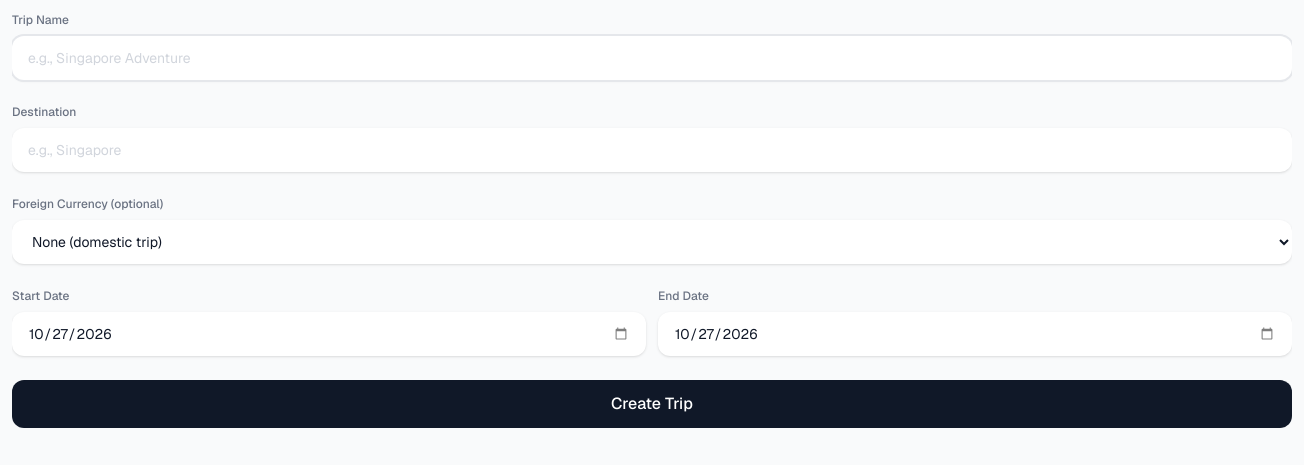
Scenario: TripForm › shows validation error for short trip name
Type "a" into the field with placeholder "e.g., Singapore Adventure". click: [652, 58]
box: left=12, top=36, right=1292, bottom=80
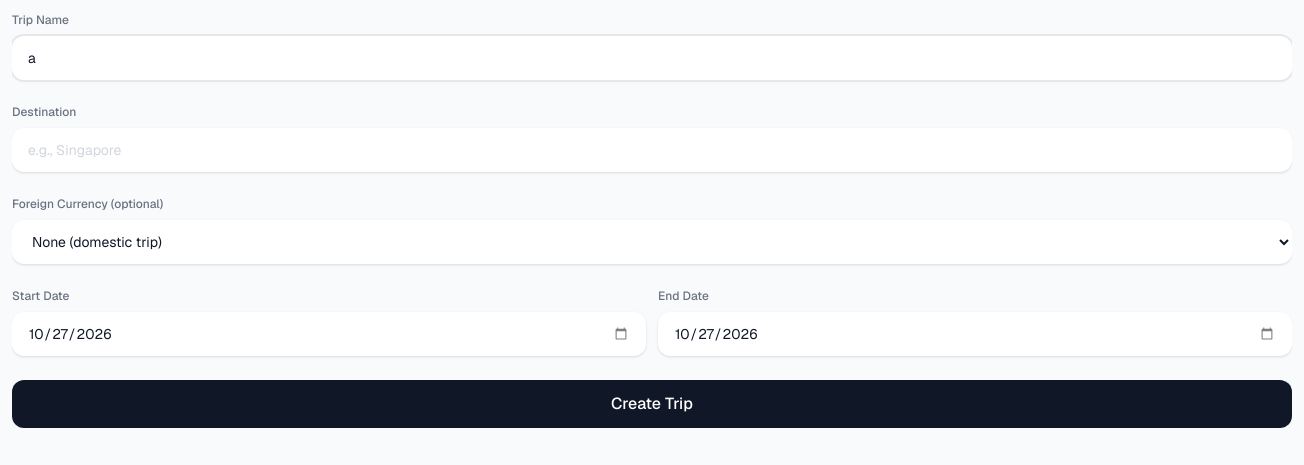
Press Tab
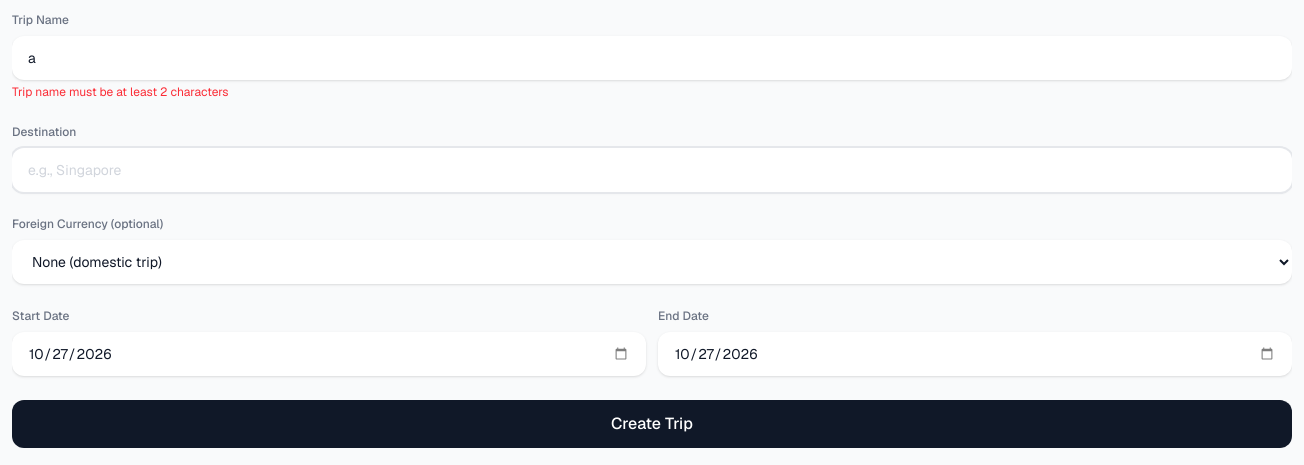
expect the text "Trip name must be at least 2 characters" is shown: met, box left=12, top=84, right=229, bottom=100
